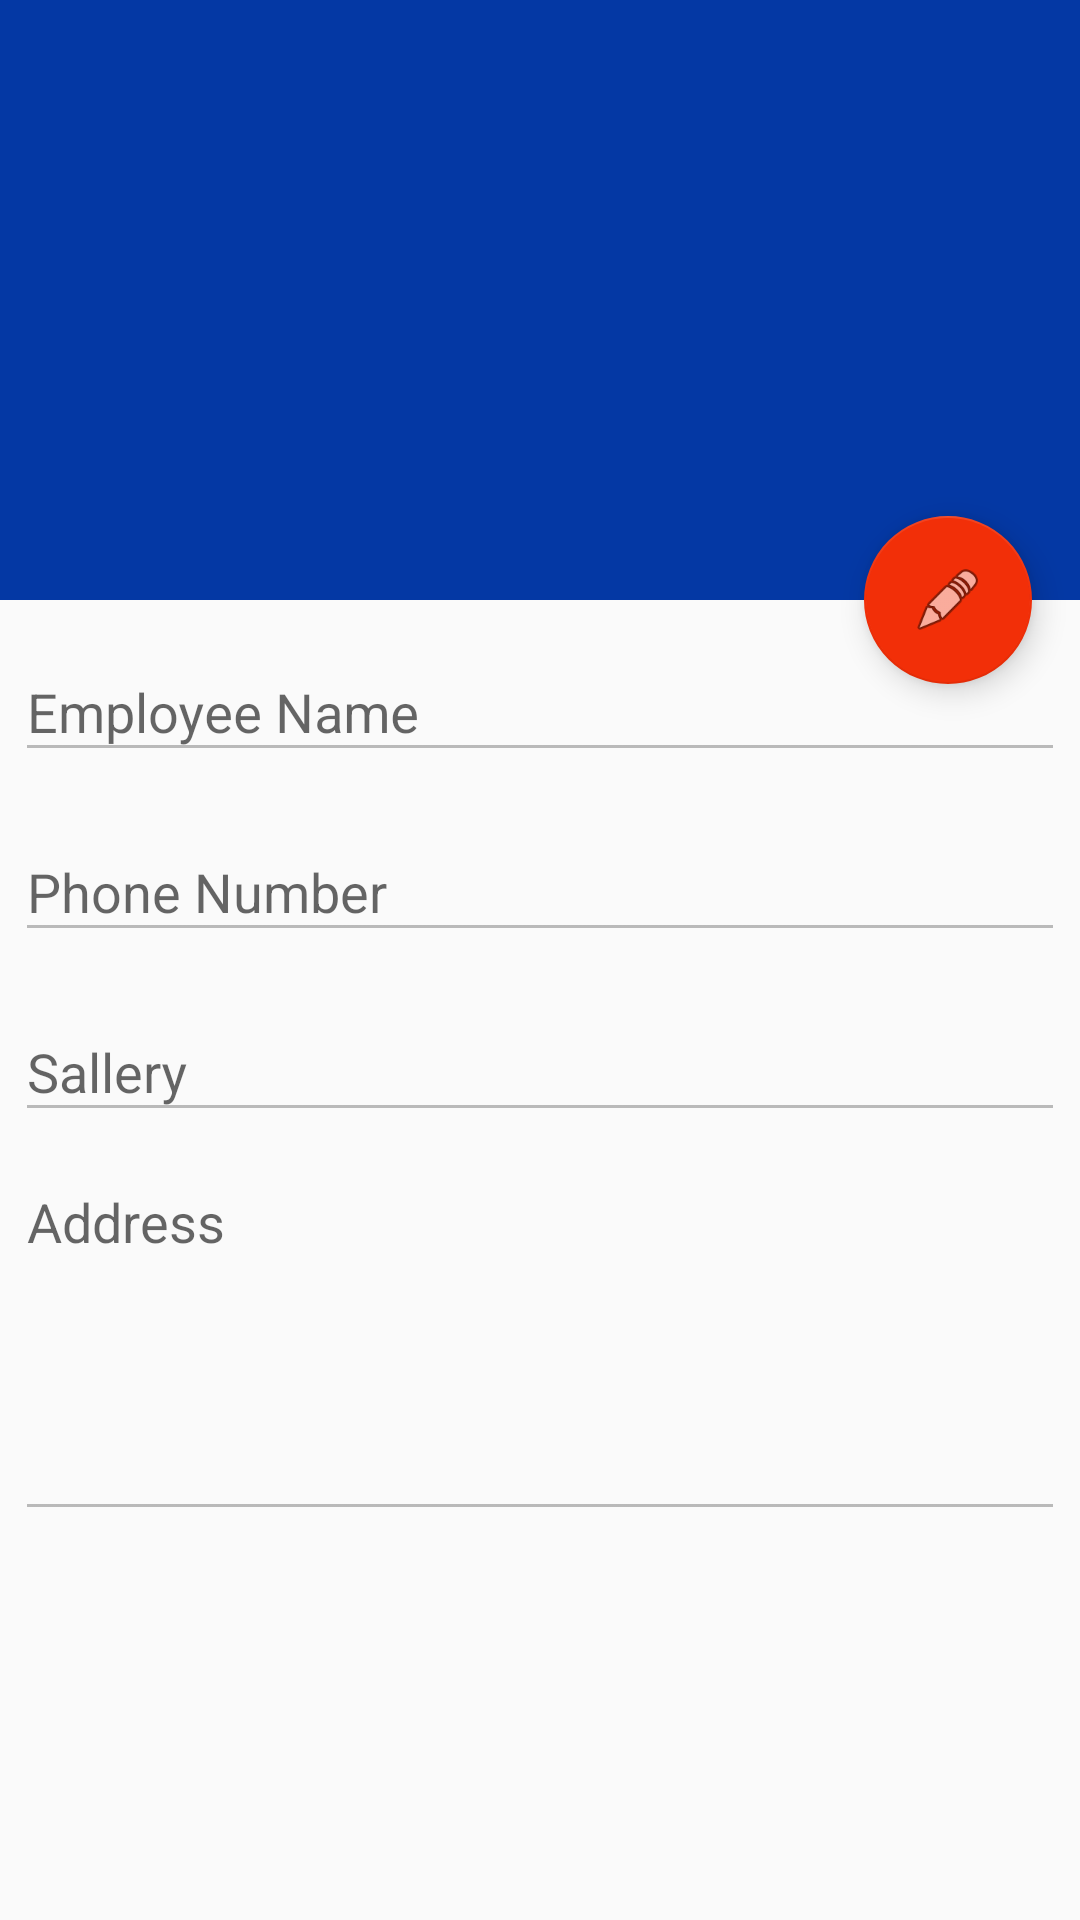

Screen size 1080*1920. Icon name, then its center in pixels as point (x, y):
edit: point (948, 600)
